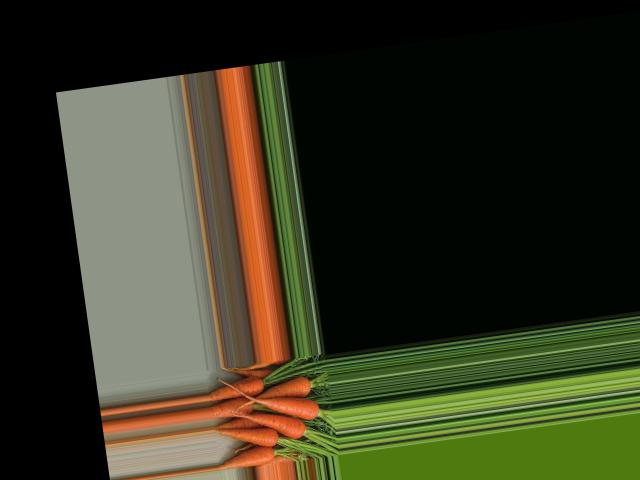carrot: (217, 450, 277, 469)
